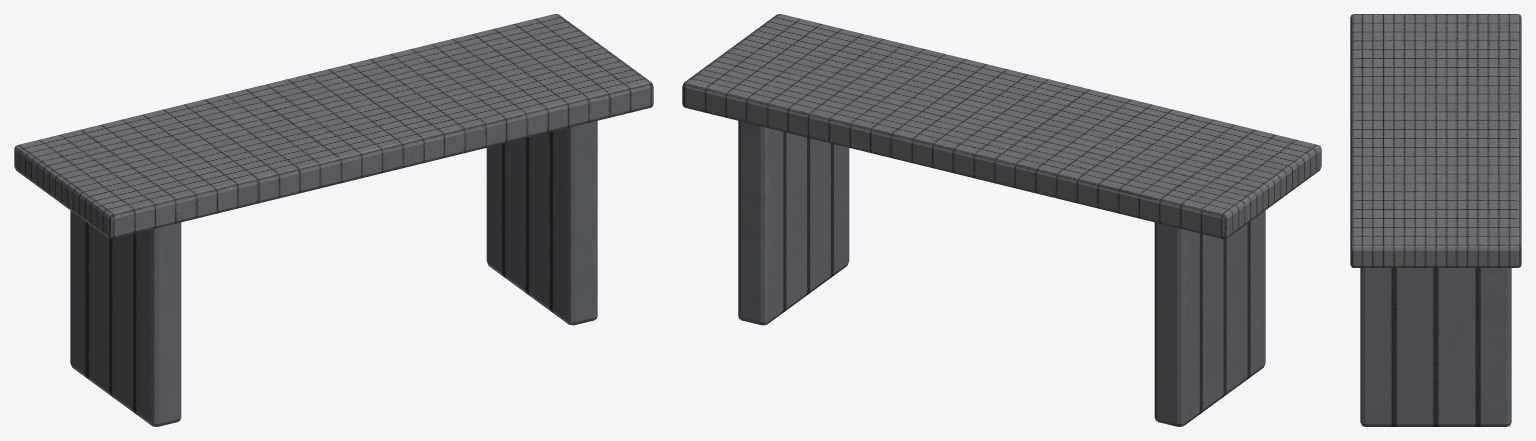
Rendered from bench.glb.
3 renders of one model, left to right at view 1: azimuth 30°, elevation 25°; view 2: azimuth 150°, elevation 25°; view 3: azimuth 270°, elevation 25°, orthographic. The views are drawn at different scales.
Visible parts, largest first — view 1: bench; view 2: bench; view 3: bench.
Part boxes in pixels (<box>): bench: <box>14,14,653,426</box>; bench: <box>682,14,1321,426</box>; bench: <box>1350,14,1521,426</box>.
Size of the model in its own units: 1.1 by 0.445 by 0.34.
1 material, 1 textured.
